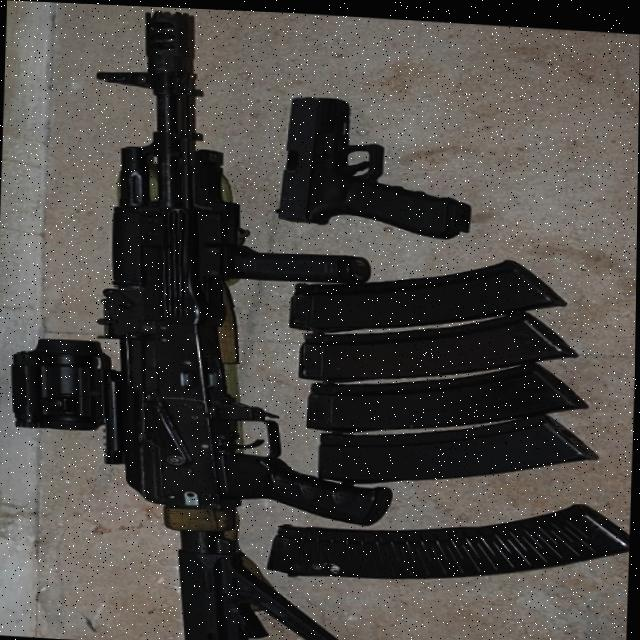firearm: (0, 0, 407, 640)
pistol: (269, 90, 478, 237)
